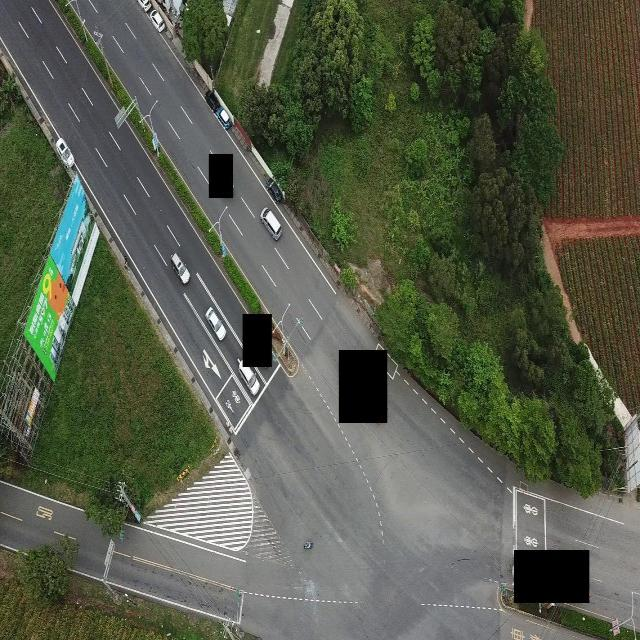bike: (302, 539, 314, 551)
car: (237, 357, 259, 396), (260, 206, 282, 241), (205, 306, 226, 341), (170, 252, 190, 285), (55, 137, 74, 169), (265, 176, 285, 203), (215, 105, 232, 129), (150, 9, 166, 33), (204, 89, 218, 112), (137, 0, 151, 13)
